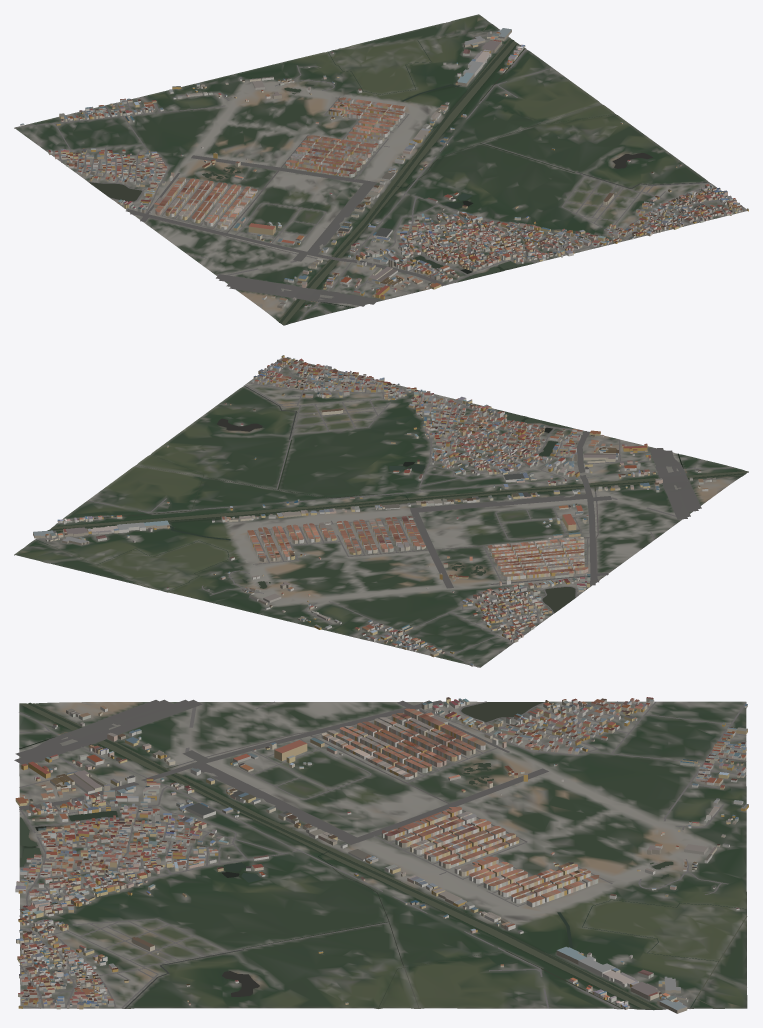
3 views of the same model, one above another, from view 1: azimuth 30°, elevation 25°; view 2: azimuth 150°, elevation 25°; view 3: azimuth 270°, elevation 25° (orthographic). The views are drawn at different scales.
Parts seen in each view (by area): view 1: ground, buildings, roads, water; view 2: ground, buildings, roads, water; view 3: ground, buildings, roads, water.
Boxes of the visible parts, x1,y1,x2,y2 form: ground: (14,14,747,325); buildings: (20,28,748,308); roads: (15,29,744,321); water: (89,22,709,324); ground: (14,357,748,667); buildings: (33,355,716,666); roads: (35,361,733,667); water: (25,385,747,612); ground: (19,701,747,1009); buildings: (15,697,748,1013); roads: (14,699,746,1008); water: (19,702,747,1010).
Bounding box in the file's own units: 1430 × 25.9 × 1417.
